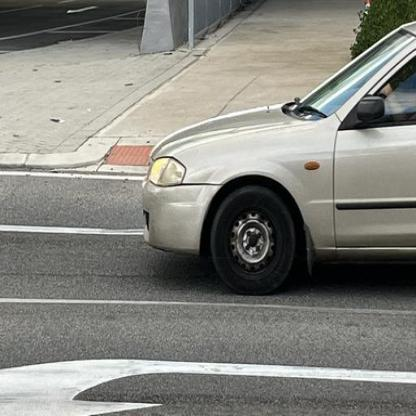Tire: (209, 186, 296, 296)
